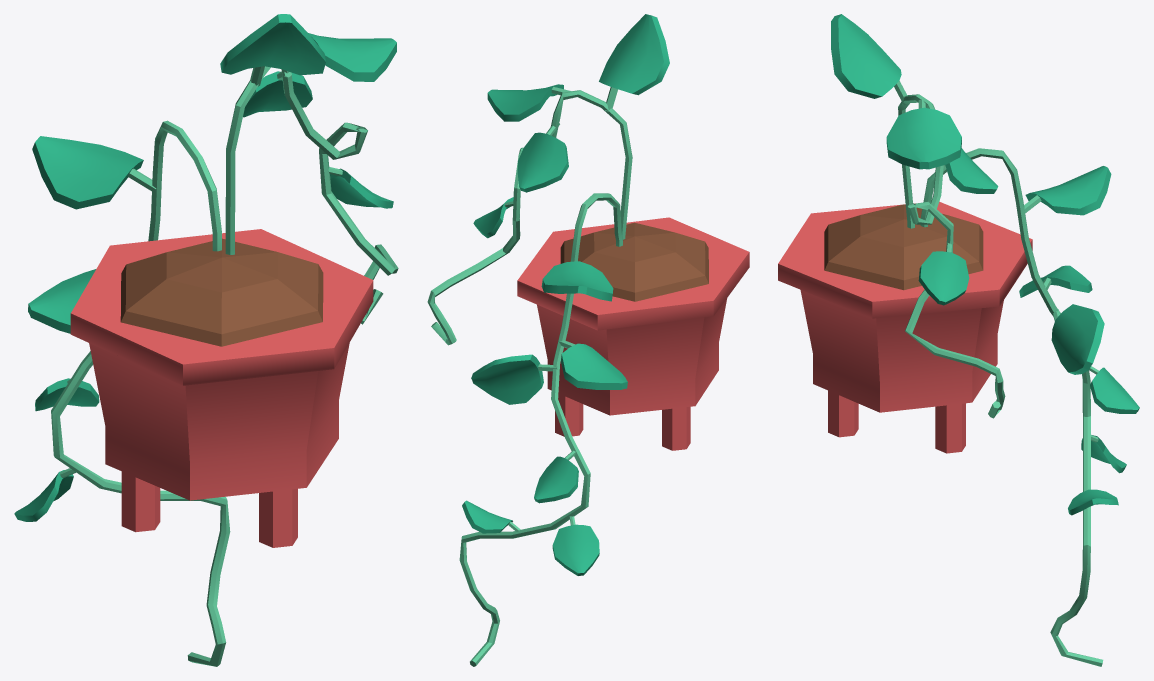
The model's file is SmallPlant_mesh.fbx.
The picture shows the model from 3 angles, left to right: view 1: azimuth 30°, elevation 25°; view 2: azimuth 150°, elevation 25°; view 3: azimuth 270°, elevation 25°; orthographic projection. The views are drawn at different scales.
Visible parts, largest first — view 1: curve1; view 2: curve1; view 3: curve1.
Part boxes in pixels (x1,y1,x2,y2): curve1: [14, 14, 398, 666]; curve1: [427, 14, 749, 666]; curve1: [778, 14, 1139, 666].
Bounding box in the file's own units: 6.12 × 13.1 × 6.9.
